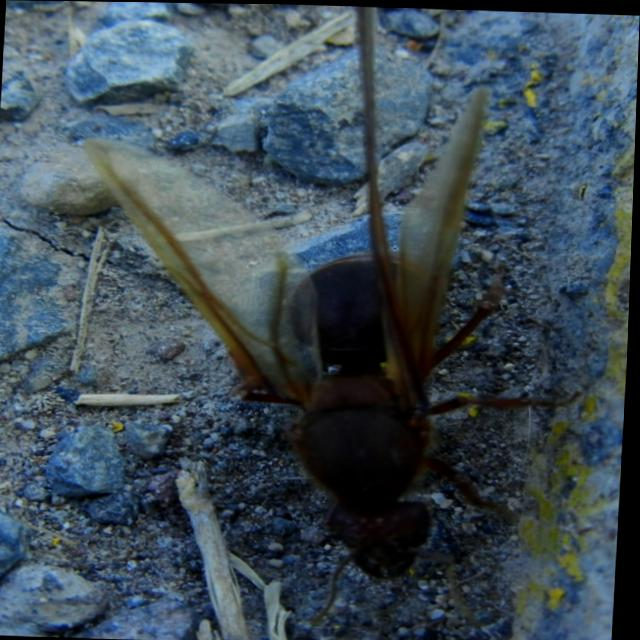Alive-Female-Alate: (59, 1, 602, 640)
